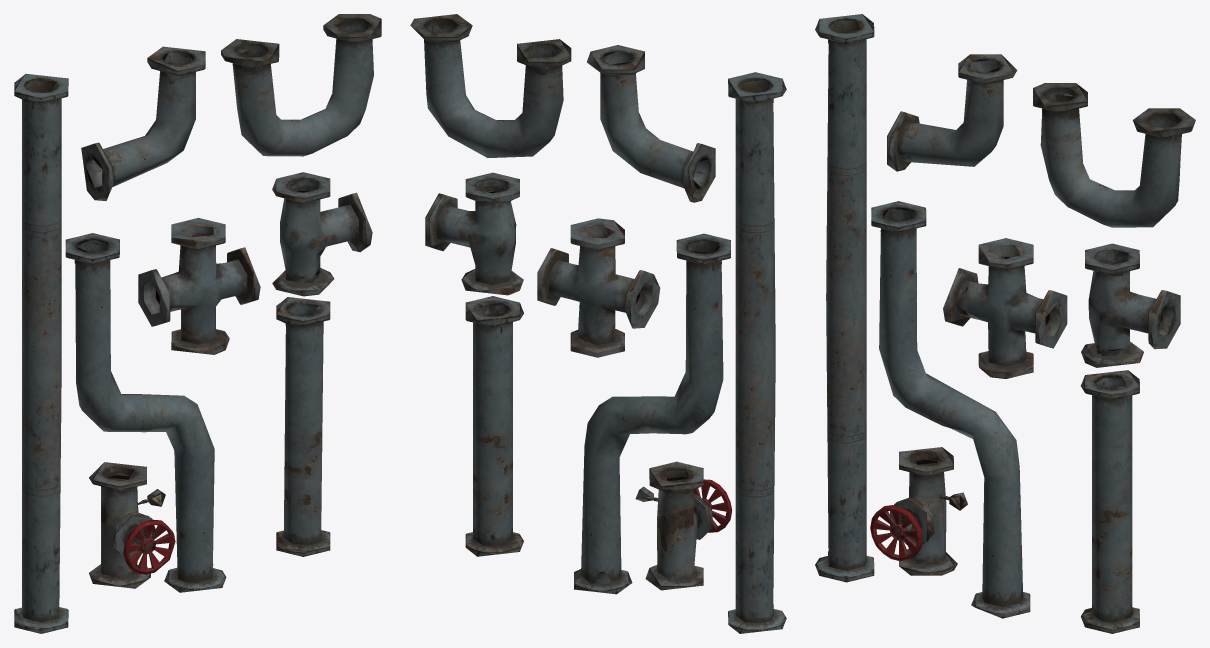
The model's file is modular_industrial_pipes_01.slim.glb.
3 views of the same model, side by side, from view 1: azimuth 30°, elevation 25°; view 2: azimuth 150°, elevation 25°; view 3: azimuth 330°, elevation 25° (orthographic).
Size of the model in its own units: 1.4 by 1.95 by 0.3072.
Materials: 2 (2 with a texture image).
